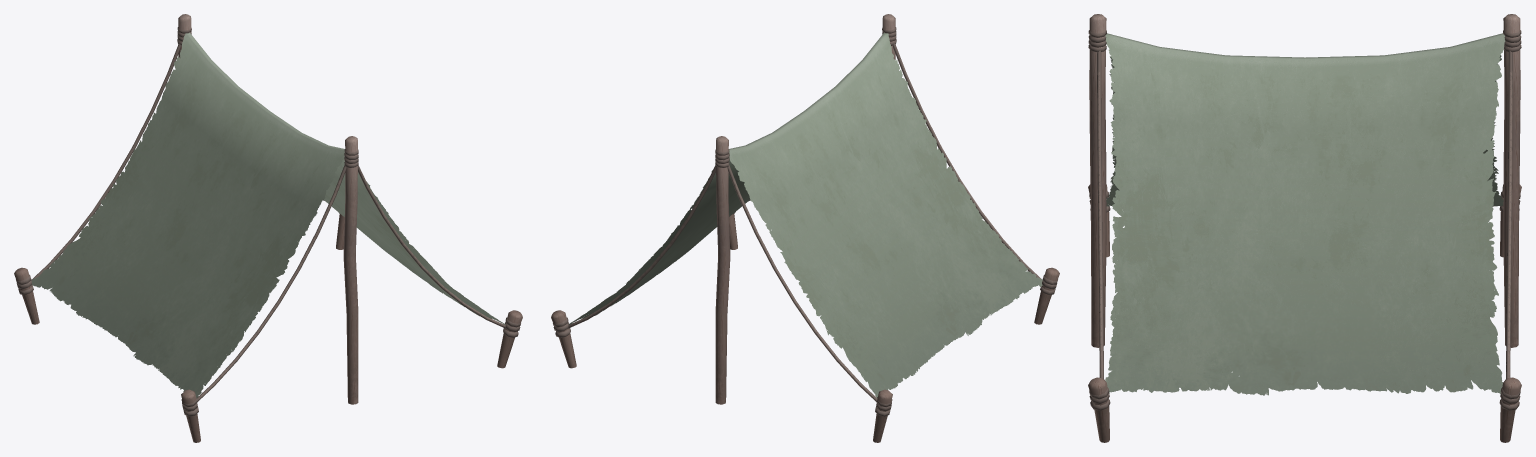
3 renders of one model, left to right at view 1: azimuth 30°, elevation 25°; view 2: azimuth 150°, elevation 25°; view 3: azimuth 270°, elevation 25°, orthographic. The views are drawn at different scales.
Parts seen in each view (by area): view 1: submesh_0; view 2: submesh_0; view 3: submesh_0.
Part boxes in pixels (bbox=[...]): submesh_0: bbox=[14, 14, 522, 442]; submesh_0: bbox=[551, 14, 1059, 442]; submesh_0: bbox=[1088, 14, 1521, 442].
Bounding box in the file's own units: 3.01 × 2.27 × 2.68.
Materials: 1 (1 with a texture image).
